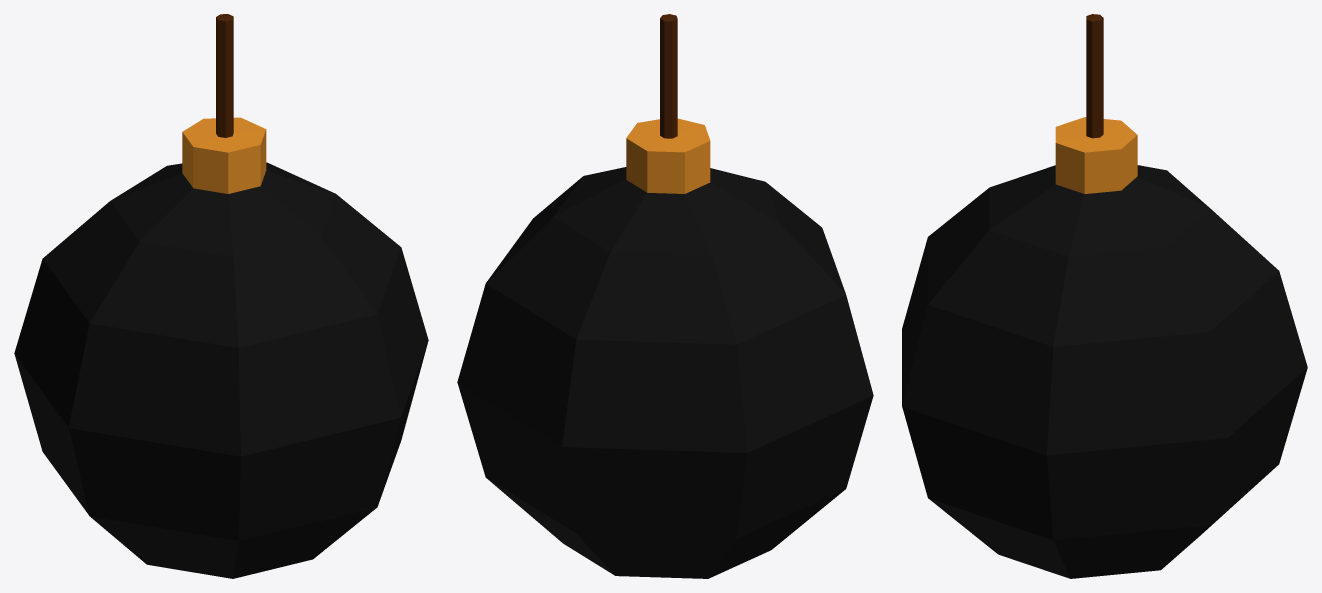
The model's file is bombU.fbx.
3 renders of one model, left to right at view 1: azimuth 30°, elevation 25°; view 2: azimuth 150°, elevation 25°; view 3: azimuth 270°, elevation 25°, orthographic.
Parts seen in each view (by area): view 1: bomb; view 2: bomb; view 3: bomb.
Part boxes in pixels (x1,y1,x2,y2): bomb: (14, 14, 428, 578); bomb: (457, 14, 873, 578); bomb: (902, 14, 1307, 578).
Bounding box in the file's own units: 0.2925 × 0.4218 × 0.2851.
